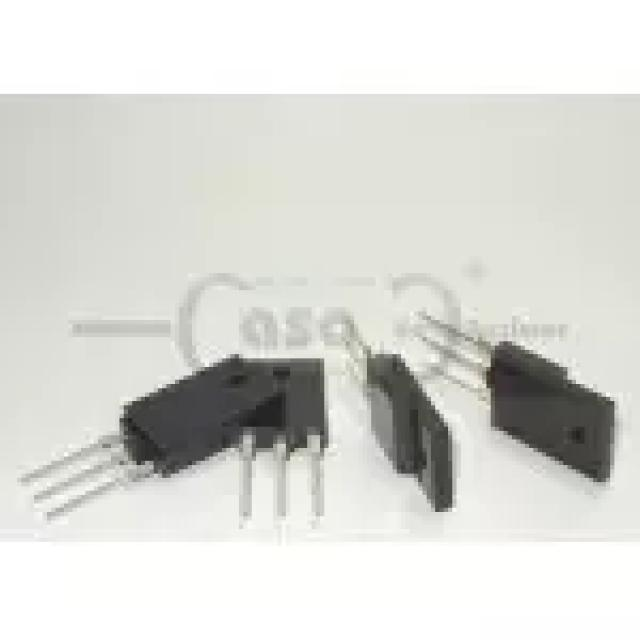Transistor: (407, 311, 616, 483), (7, 356, 237, 510), (327, 316, 456, 511), (241, 358, 331, 528)
